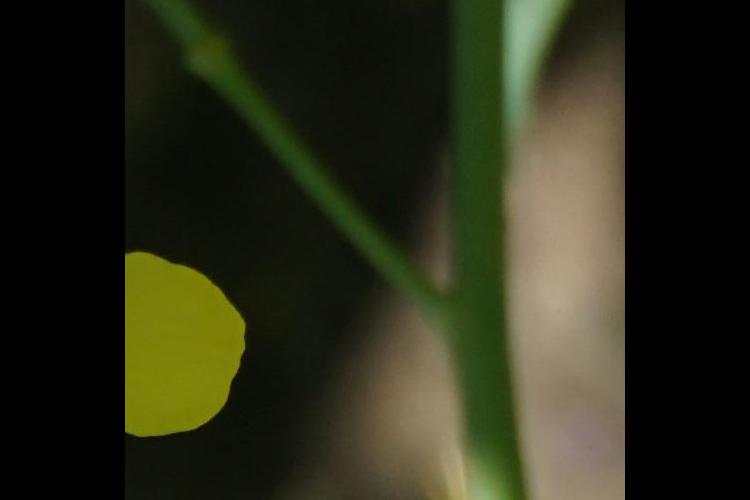yellow: (131, 256, 243, 443)
